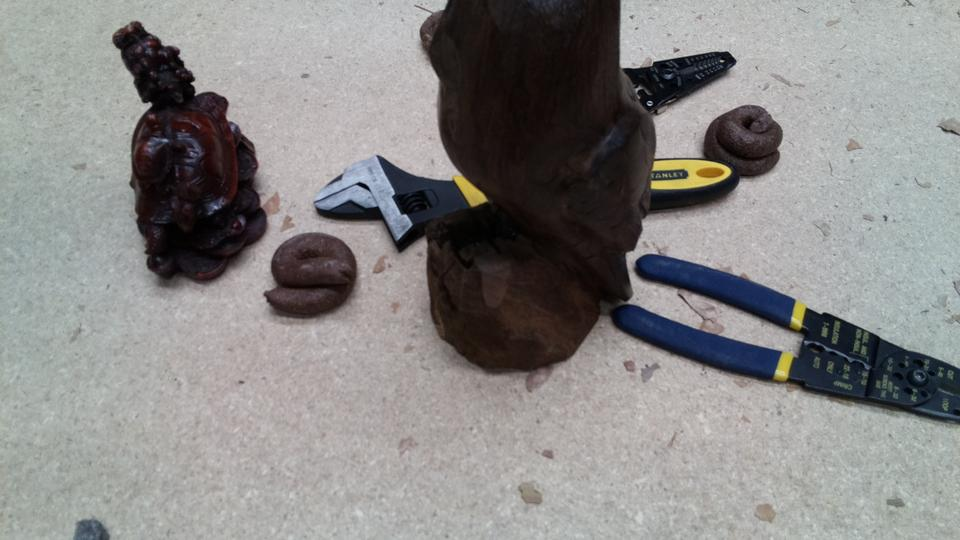poop: (261, 230, 364, 319), (702, 103, 787, 178)
